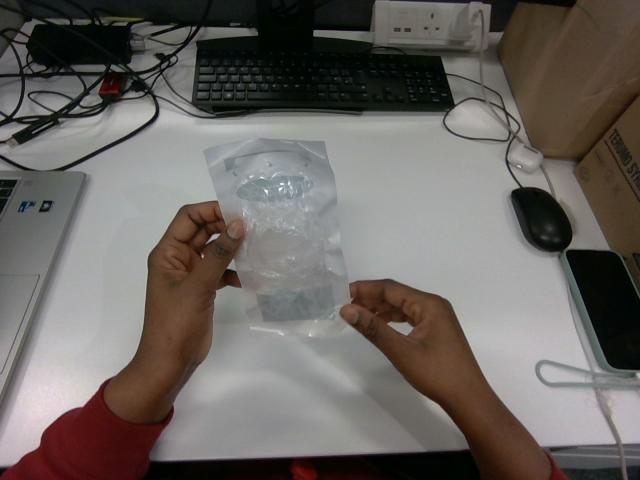gallipot: (204, 139, 349, 335)
